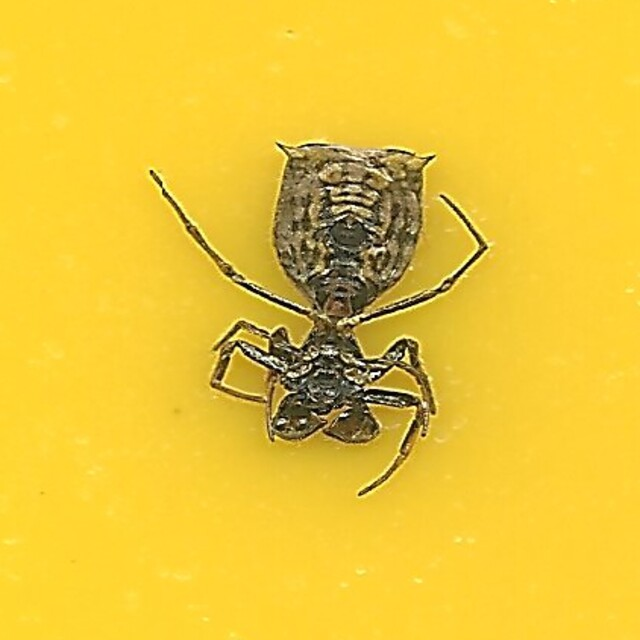Araneae: (152, 139, 488, 501)
